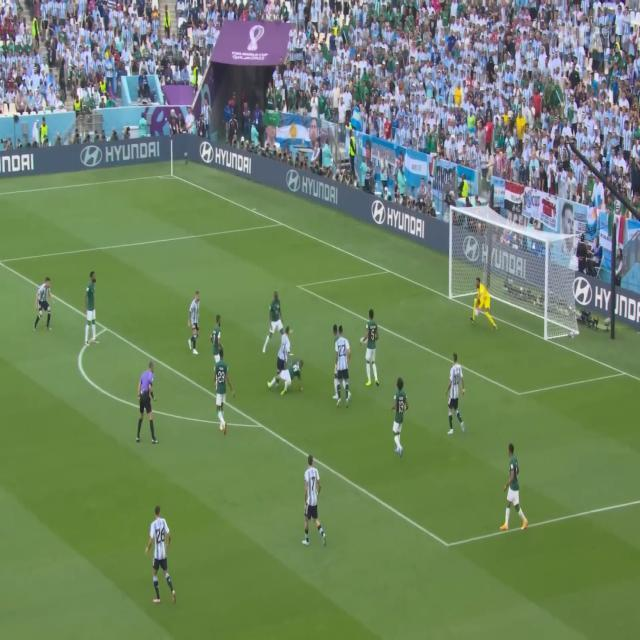player: (144, 495, 178, 608), (295, 443, 328, 557), (500, 439, 528, 537), (212, 342, 233, 437), (468, 272, 500, 334), (262, 291, 289, 359), (331, 327, 354, 406), (80, 268, 102, 347), (447, 348, 466, 436), (265, 359, 306, 399), (391, 371, 410, 454), (32, 274, 57, 336), (364, 309, 382, 393), (189, 289, 204, 361), (274, 324, 292, 383), (208, 307, 224, 363)
